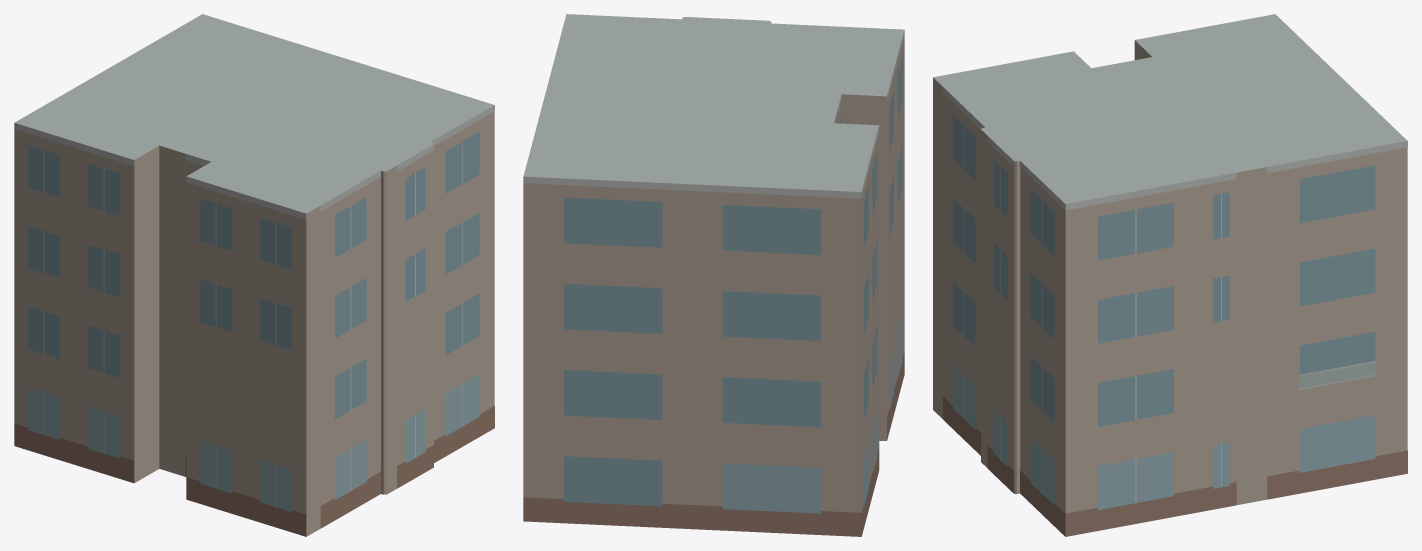
The model's file is survey-upis-32747470.glb.
3 renders of one model, left to right at view 1: azimuth 30°, elevation 25°; view 2: azimuth 150°, elevation 25°; view 3: azimuth 270°, elevation 25°, orthographic. The views are drawn at different scales.
Visible parts, largest first — view 1: survey-upis-32747470.tmp; view 2: survey-upis-32747470.tmp; view 3: survey-upis-32747470.tmp.
Part boxes in pixels (x1,y1,x2,y2): survey-upis-32747470.tmp: (14, 14, 494, 536); survey-upis-32747470.tmp: (523, 14, 904, 536); survey-upis-32747470.tmp: (933, 14, 1407, 536).
Size of the model in its own units: 15.7 by 12.8 by 16.56.
